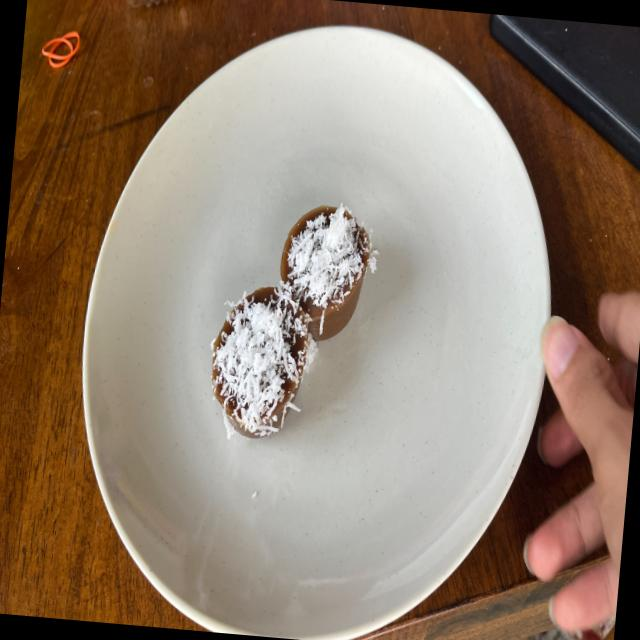Kuih lompang: (211, 286, 311, 437), (280, 204, 376, 340)
